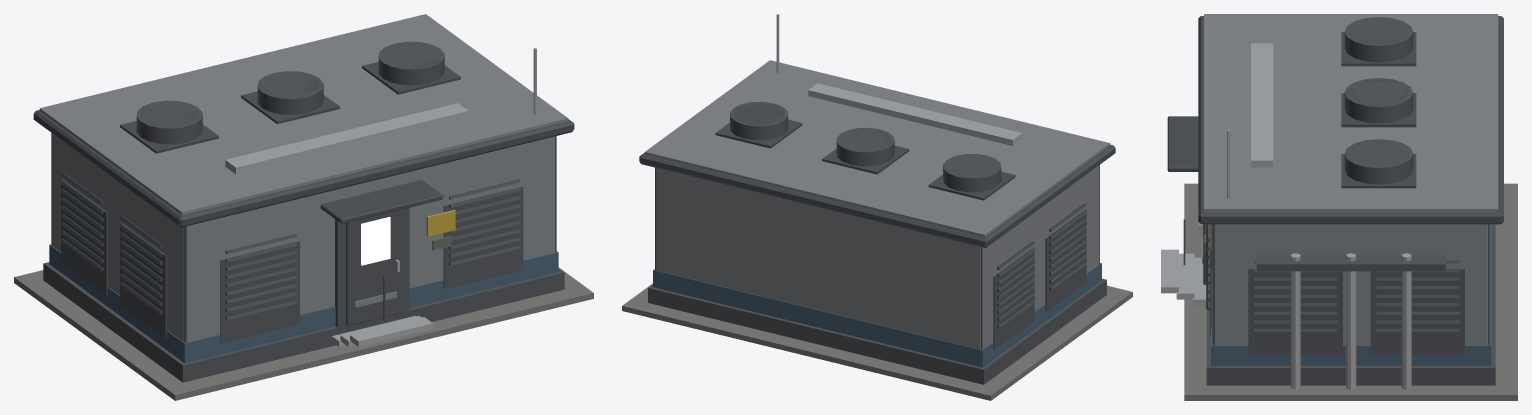
Rendered from inverter_station.glb.
The picture shows the model from 3 angles, left to right: view 1: azimuth 30°, elevation 25°; view 2: azimuth 150°, elevation 25°; view 3: azimuth 270°, elevation 25°; orthographic projection. The views are drawn at different scales.
Parts seen in each view (by area): view 1: body, louvres, door, door_glow, sign_plate; view 2: body, louvres; view 3: body, louvres.
Boxes of the visible parts, x1,y1,x2,y2 form: body: (14,14,593,400); louvres: (60,172,523,343); door: (346,209,402,325); door_glow: (361,217,390,265); sign_plate: (426,210,455,250); body: (622,14,1132,400); louvres: (993,203,1086,349); body: (1161,14,1517,400); louvres: (1206,224,1464,354).
Bounding box in the file's own units: 9 × 5 × 6.42.
